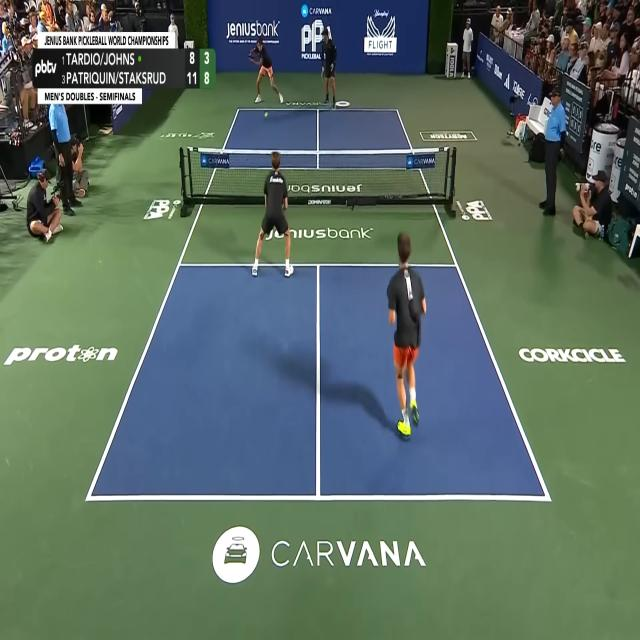ball: (264, 112, 268, 118)
